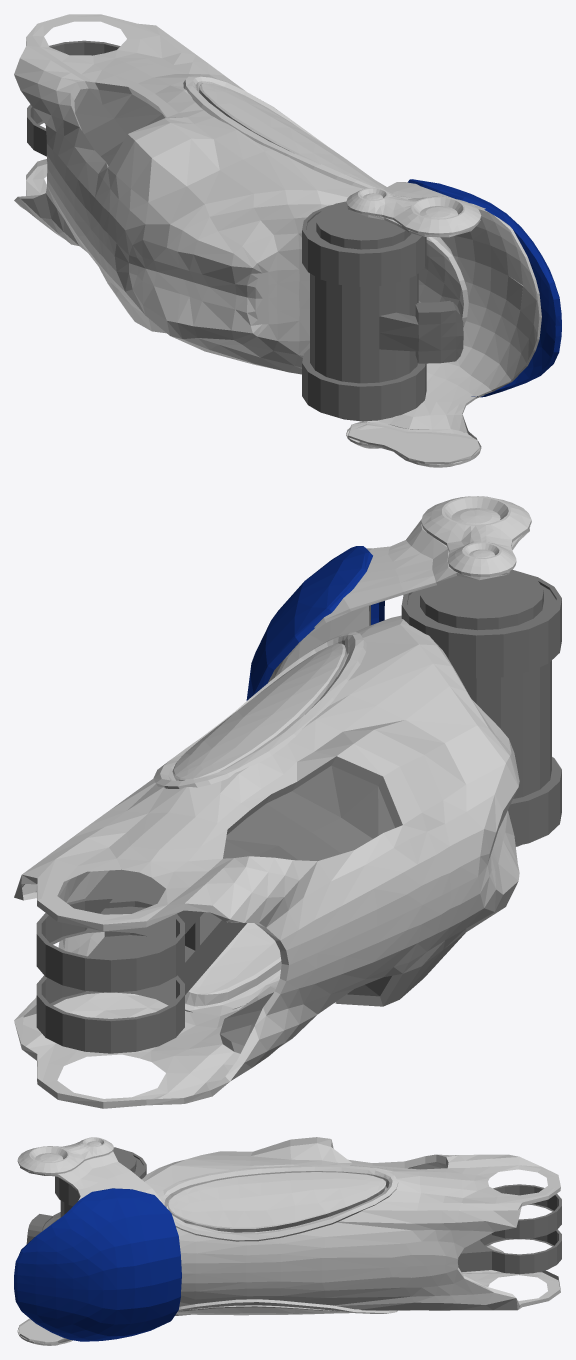
Rendered from RKneePitch.obj.
3 renders of one model, top to bottom at view 1: azimuth 30°, elevation 25°; view 2: azimuth 150°, elevation 25°; view 3: azimuth 270°, elevation 25°, orthographic. The views are drawn at different scales.
Parts seen in each view (by area): view 1: RKneePitch, Cylinder003_000_skip_Cylinder003.000, Object004_000_skip_Object004.000; view 2: RKneePitch, Cylinder003_000_skip_Cylinder003.000, Object004_000_skip_Object004.000; view 3: RKneePitch, Object004_000_skip_Object004.000, Cylinder003_000_skip_Cylinder003.000.
Part boxes in pixels (left/top/right/bottom): RKneePitch: left=14, top=14, right=561, bottom=467; Cylinder003_000_skip_Cylinder003.000: left=302, top=201, right=463, bottom=421; Object004_000_skip_Object004.000: left=27, top=40, right=120, bottom=156; RKneePitch: left=14, top=496, right=531, bottom=1108; Cylinder003_000_skip_Cylinder003.000: left=401, top=569, right=561, bottom=846; Object004_000_skip_Object004.000: left=36, top=869, right=246, bottom=1053; RKneePitch: left=14, top=1137, right=560, bottom=1345; Object004_000_skip_Object004.000: left=458, top=1184, right=561, bottom=1274; Cylinder003_000_skip_Cylinder003.000: left=26, top=1147, right=146, bottom=1243.
Bounding box in the file's own units: 0.1653 × 0.1377 × 0.3741.
